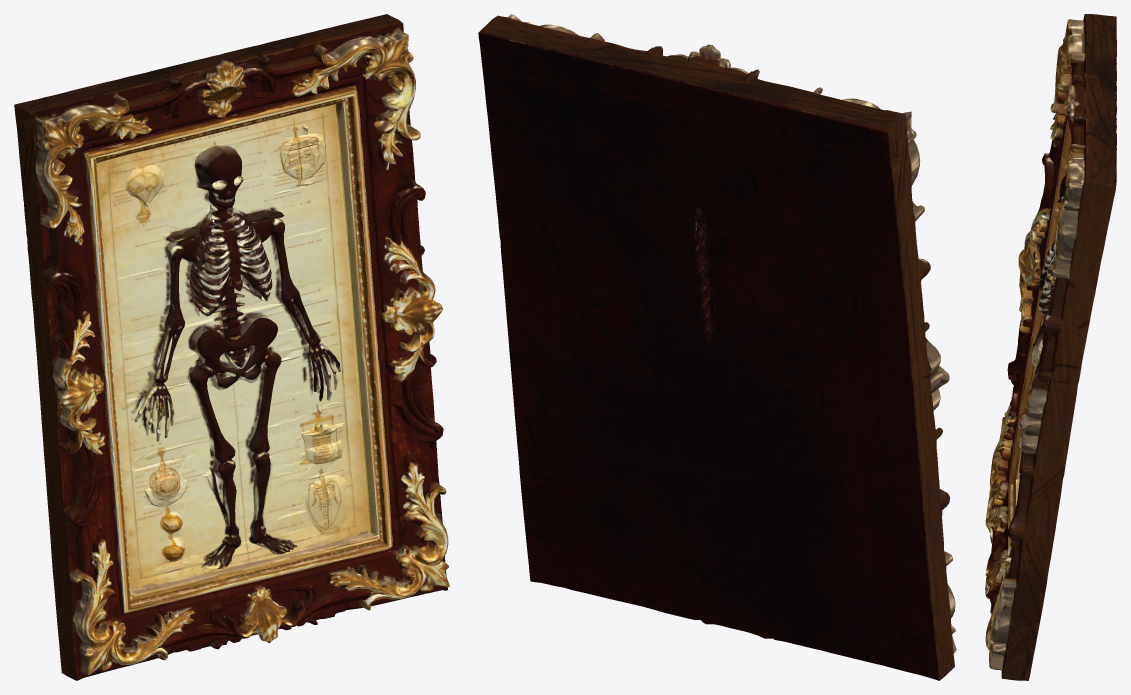
The model's file is victorian_photoframe.glb.
The picture shows the model from 3 angles, left to right: view 1: azimuth 30°, elevation 25°; view 2: azimuth 150°, elevation 25°; view 3: azimuth 270°, elevation 25°; orthographic projection. The views are drawn at different scales.
Parts seen in each view (by area): view 1: world; view 2: world; view 3: world.
Boxes of the visible parts, bbox=[...] form: world: bbox=[14, 14, 449, 680]; world: bbox=[478, 14, 956, 680]; world: bbox=[985, 14, 1116, 680].
Bounding box in the file's own units: 1.45 × 1.99 × 0.465.
1 material, 1 textured.
